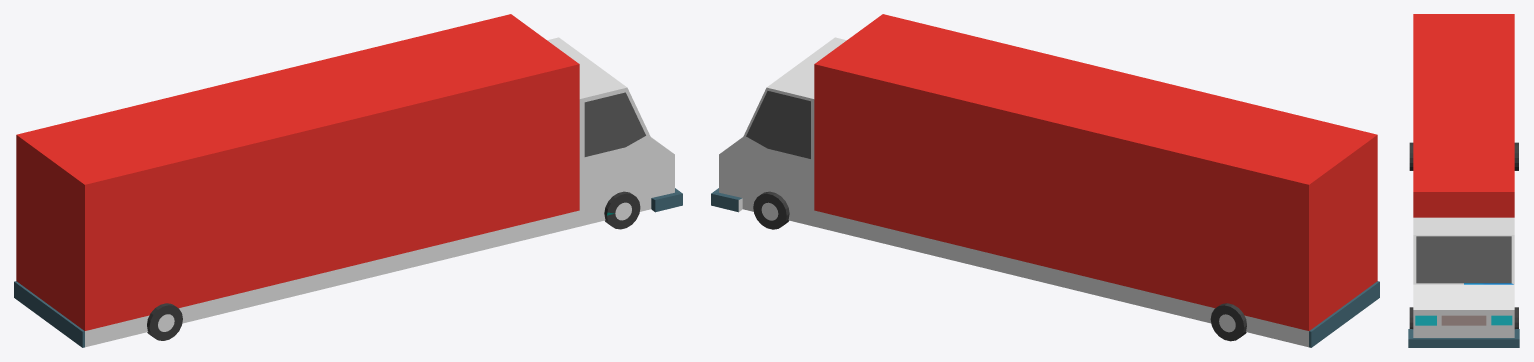
File: Kamionce4x1Red.fbx
The picture shows the model from 3 angles, left to right: view 1: azimuth 30°, elevation 25°; view 2: azimuth 150°, elevation 25°; view 3: azimuth 270°, elevation 25°; orthographic projection. The views are drawn at different scales.
Visible parts, largest first — view 1: Car_08_4; view 2: Car_08_4; view 3: Car_08_4.
Boxes of the visible parts, box(x1,y1,x2,y2) form: Car_08_4: box(14, 14, 682, 347); Car_08_4: box(711, 14, 1379, 347); Car_08_4: box(1408, 14, 1519, 347).
Bounding box in the file's own units: 3.99 × 1.1 × 0.8755.
Materials: 1 (1 with a texture image).
